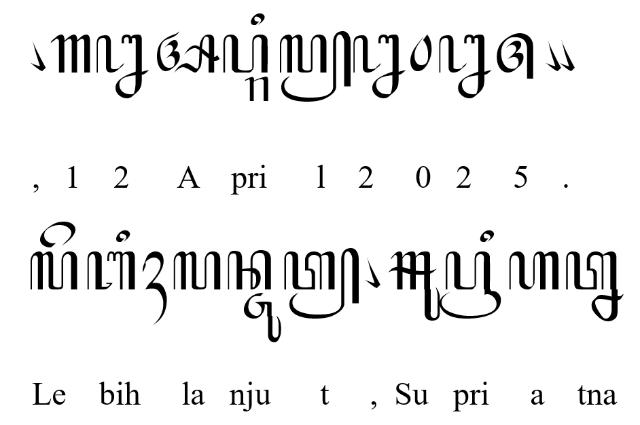-l: (279, 31, 351, 103)
-t: (284, 247, 360, 320)
0: (411, 34, 432, 72)
5: (496, 34, 534, 80)
A: (156, 31, 220, 74)
Su: (390, 251, 440, 321)
_h1: (142, 251, 168, 325)
_ju: (242, 294, 282, 344)
b: (86, 251, 136, 291)
e: (38, 222, 76, 248)
g: (50, 34, 91, 74)
h: (508, 252, 560, 290)
i: (250, 13, 266, 27), (116, 230, 130, 243), (480, 230, 494, 243)
kom: (545, 40, 561, 72), (30, 41, 46, 72), (560, 39, 574, 71), (366, 258, 380, 290)
l: (173, 251, 221, 292), (30, 252, 78, 290)
n: (228, 251, 272, 292)
ngna: (95, 34, 148, 100), (351, 34, 405, 98), (438, 33, 490, 99)
p: (223, 34, 269, 74)
pr: (439, 252, 501, 320)
r: (245, 76, 269, 102)
tn: (566, 251, 624, 323)
